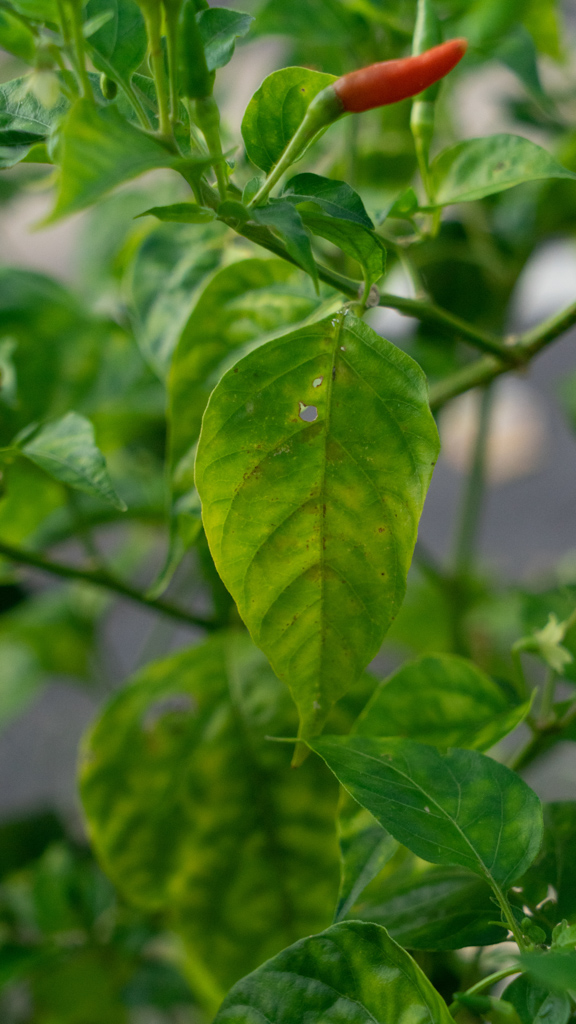Rust: (230, 378, 398, 625)
